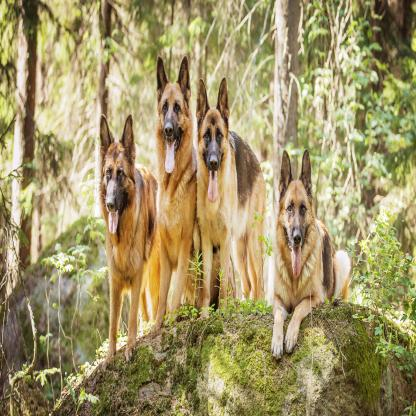dog: (269, 147, 352, 362), (200, 84, 265, 348), (98, 117, 160, 367), (157, 63, 200, 336)
